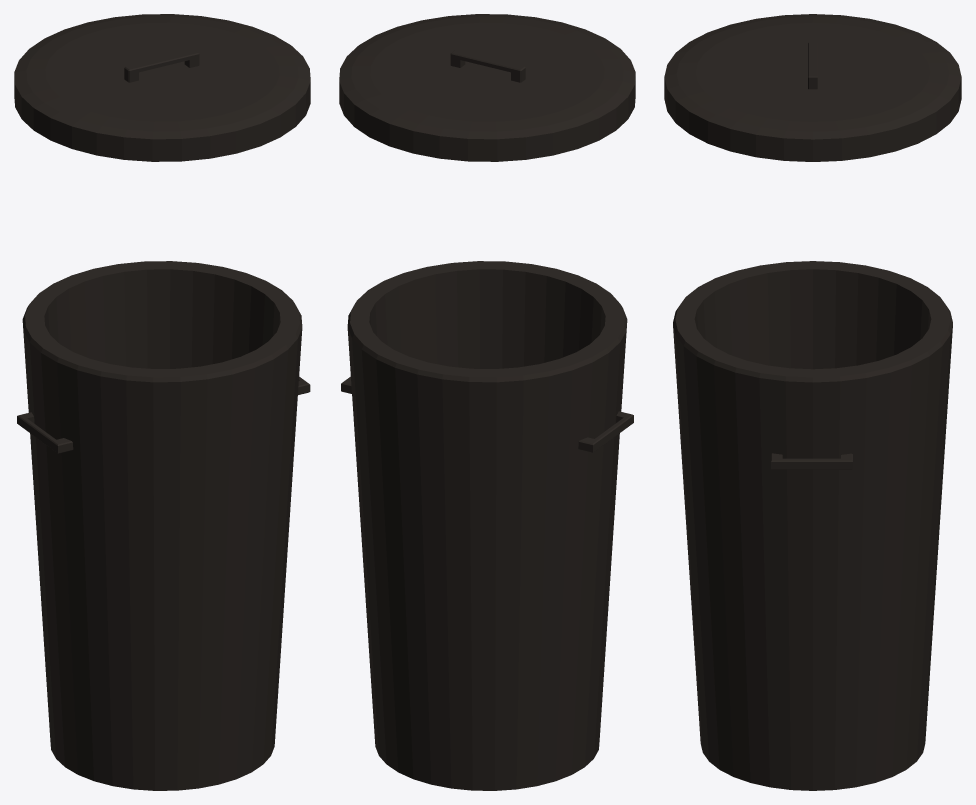
The model's file is Bin.fbx.
3 views of the same model, side by side, from view 1: azimuth 30°, elevation 25°; view 2: azimuth 150°, elevation 25°; view 3: azimuth 270°, elevation 25° (orthographic).
Parts seen in each view (by area): view 1: BinMain, BinLid; view 2: BinMain, BinLid; view 3: BinMain, BinLid.
Boxes of the visible parts, x1,y1,x2,y2 form: BinMain: (17, 261, 310, 790); BinLid: (14, 14, 310, 161); BinMain: (341, 261, 633, 790); BinLid: (339, 14, 635, 161); BinMain: (673, 261, 952, 790); BinLid: (664, 14, 961, 161).
Bounding box in the file's own units: 127 × 322 × 127.
